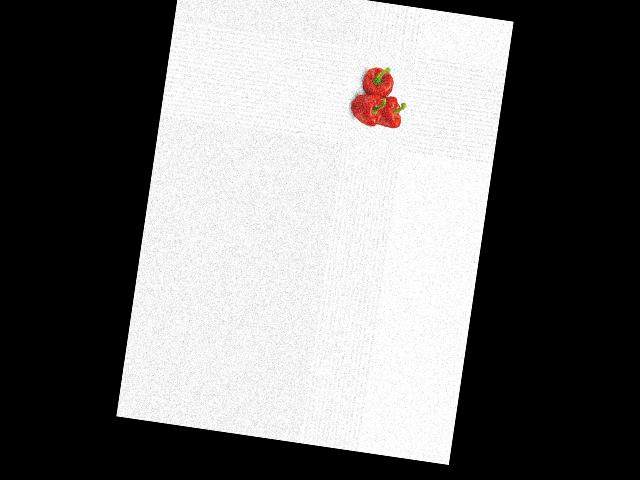bell_pepper: (357, 61, 399, 102)
